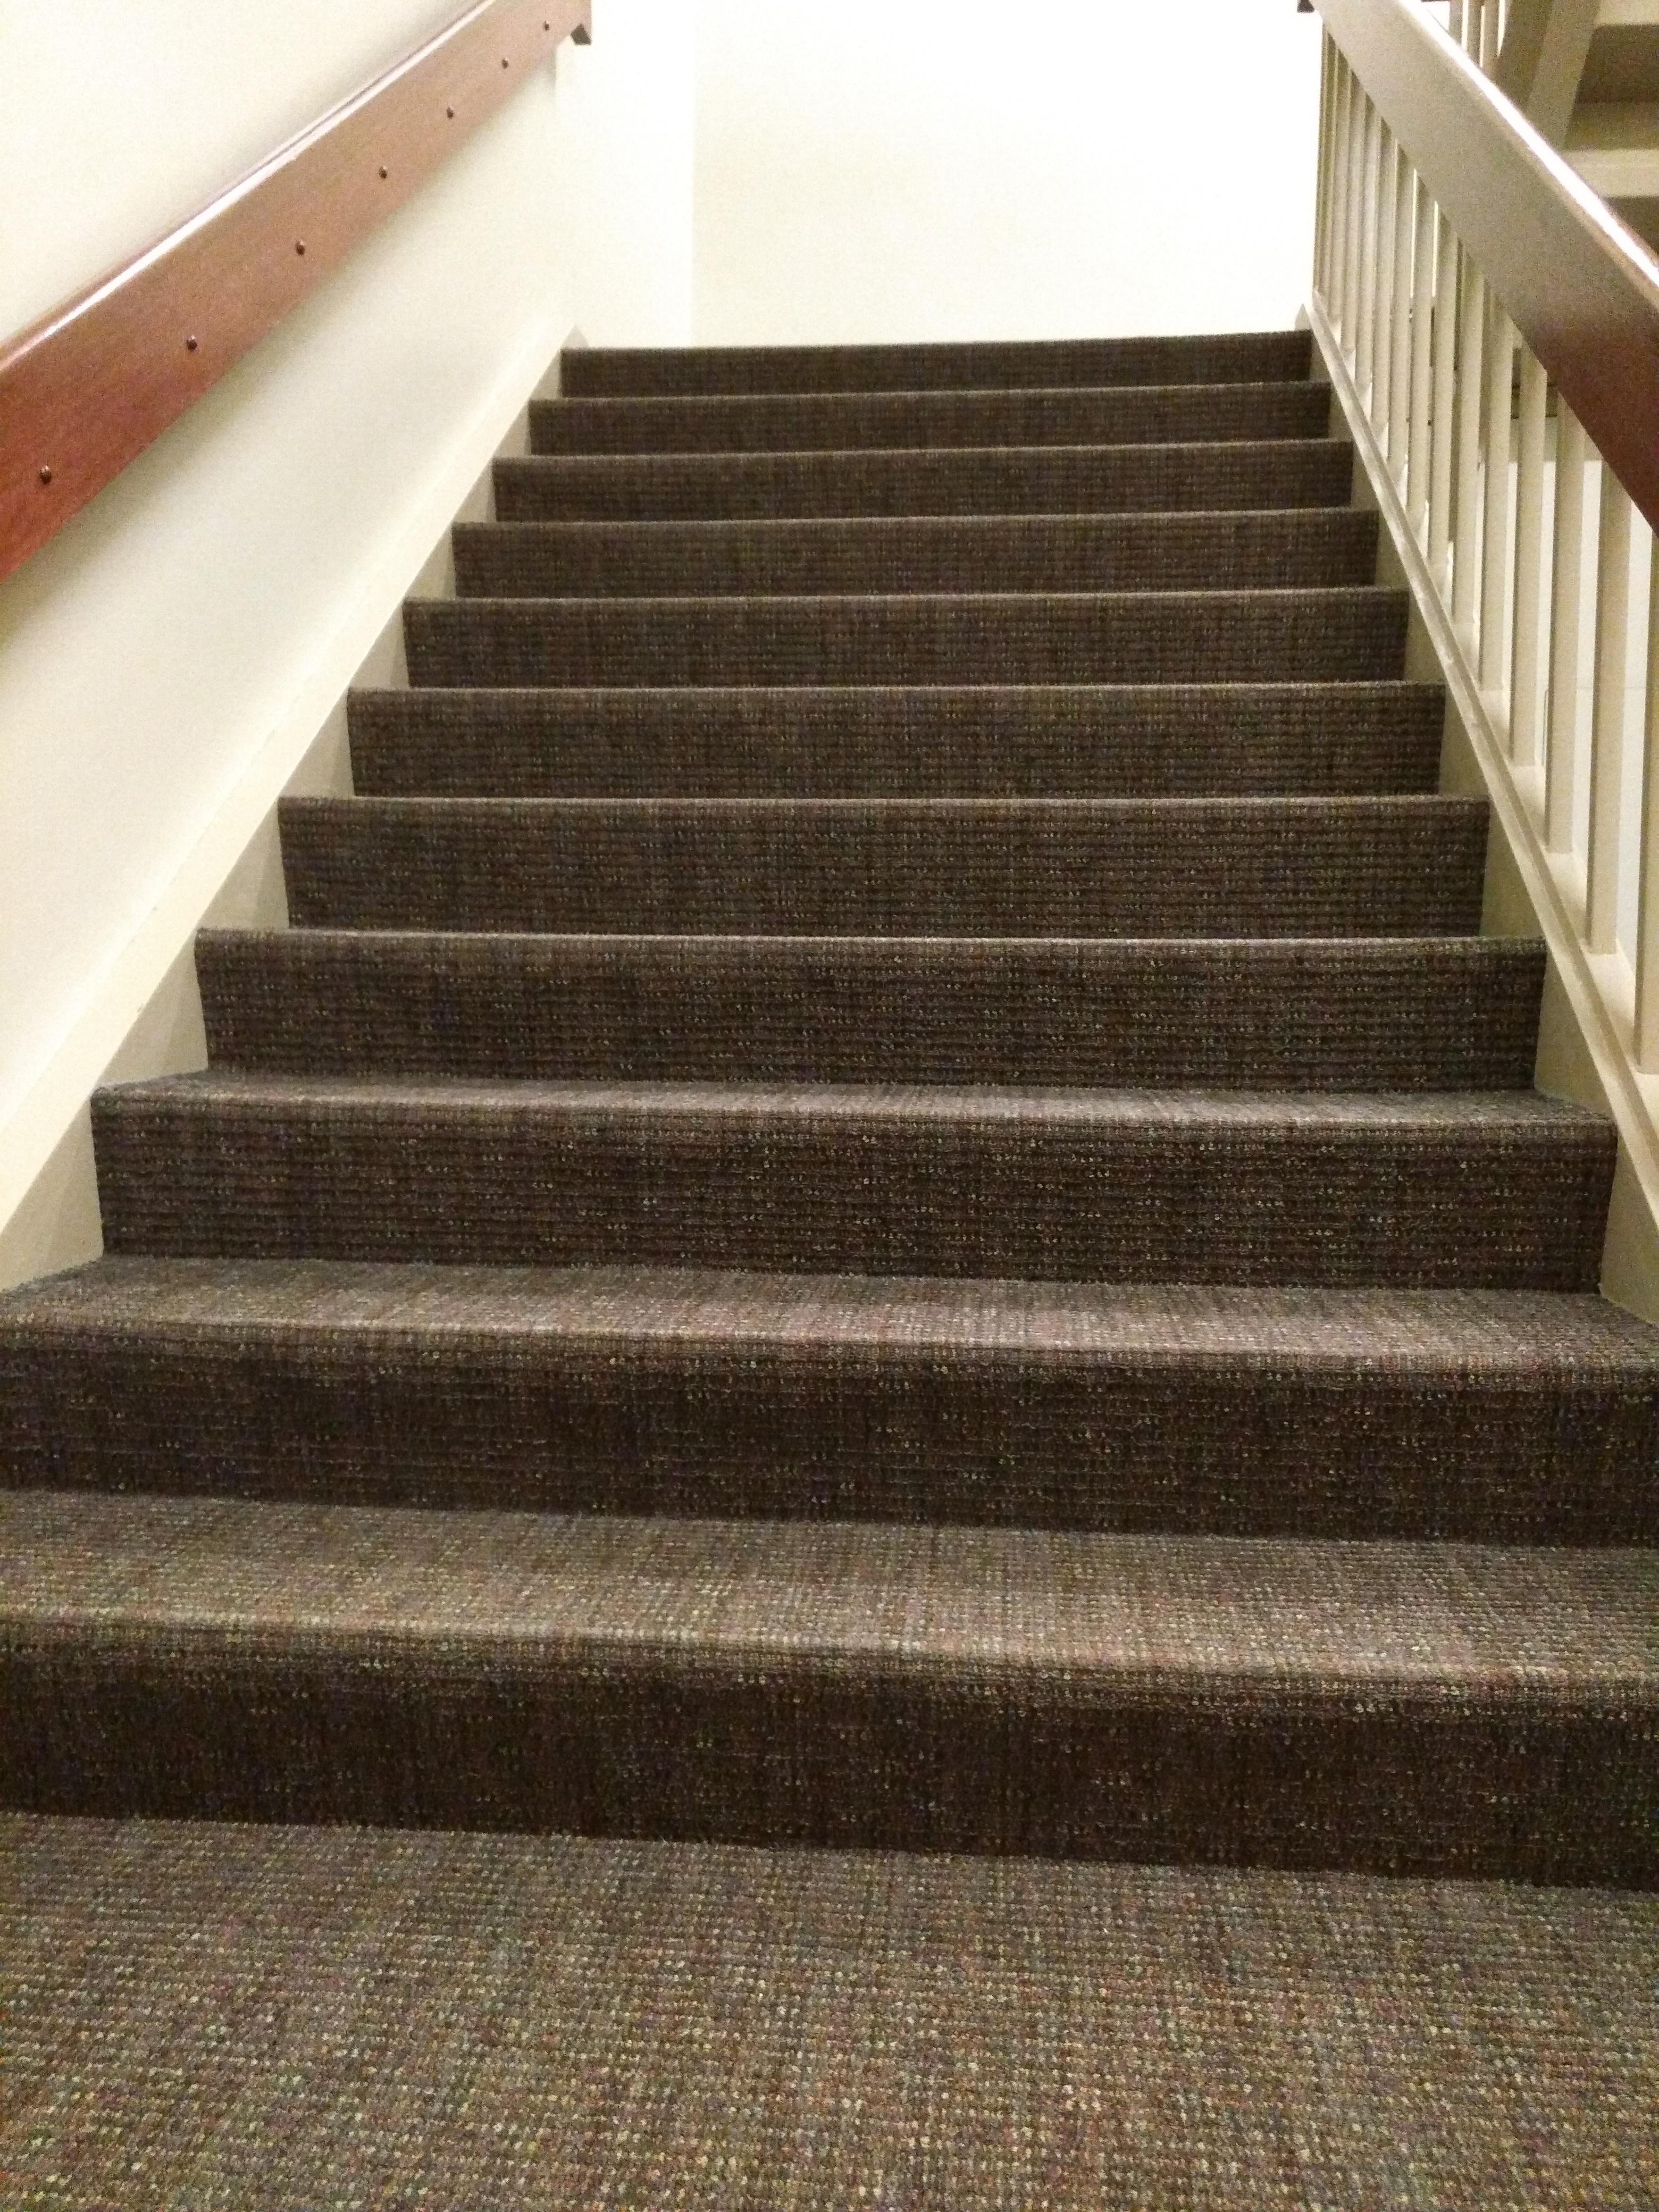stairs_up: (0, 307, 1659, 1940)
